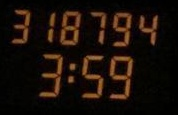1: (46, 10, 56, 43)
3: (35, 52, 64, 98), (9, 7, 31, 44)
4: (137, 13, 158, 46)
5: (80, 54, 104, 99)
7: (88, 10, 106, 45)
8: (59, 9, 81, 46)
9: (107, 54, 133, 99), (110, 11, 132, 47)
X: (65, 60, 76, 83)
